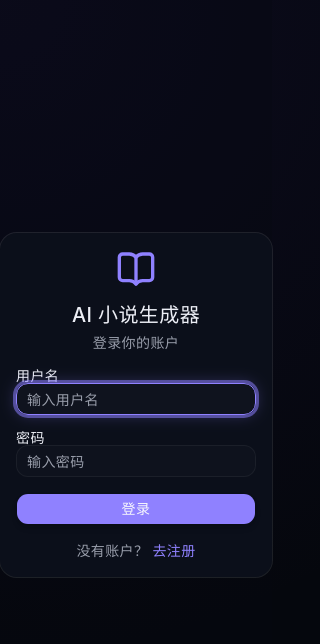
Scenario: LoginPage › shows error when password is too short in register mode
The width and height of the screenshot is (320, 644).
Click the button "去注册". click: (174, 551)
box: top-left (152, 541), bottom-right (196, 561)
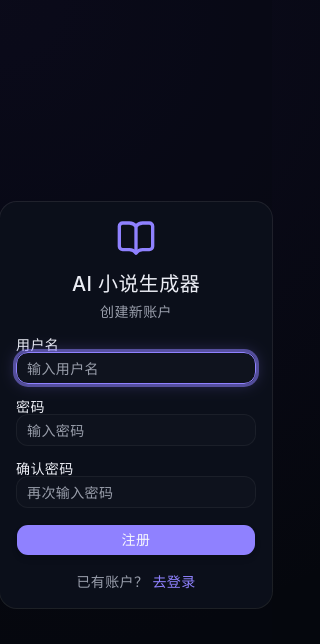
Type "testuser" into the field labelled "用户名". click: (136, 368)
box: top-left (16, 352), bottom-right (256, 384)
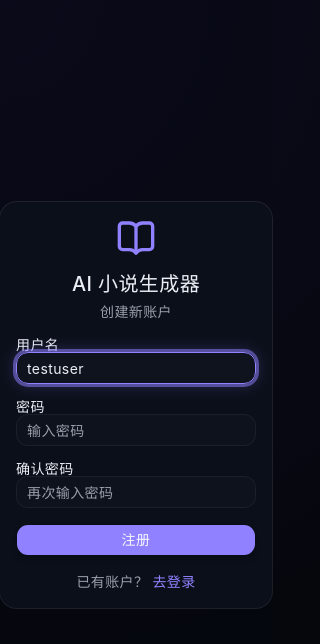
Type "123" into the password field labelled "密码". click: (136, 430)
box: top-left (16, 414), bottom-right (256, 446)
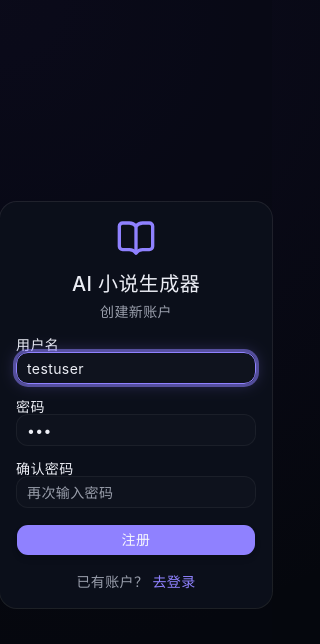
Type "123" into the password field named "确认密码". click: (136, 492)
box: top-left (16, 476), bottom-right (256, 508)
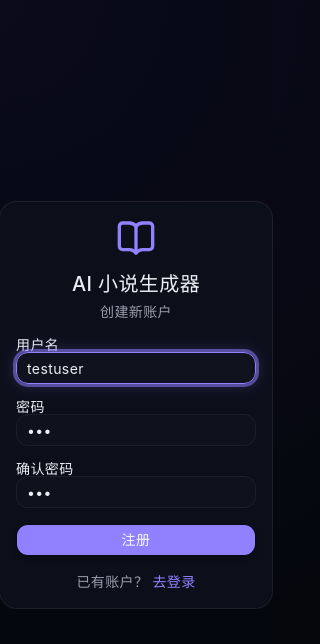
Click the button "注册". click: (136, 540)
box: top-left (16, 524), bottom-right (256, 556)
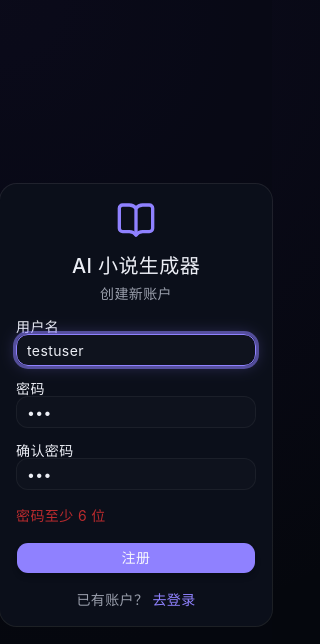
Now the text "密码至少 6 位" is shown, box top-left (16, 507), bottom-right (106, 524)
